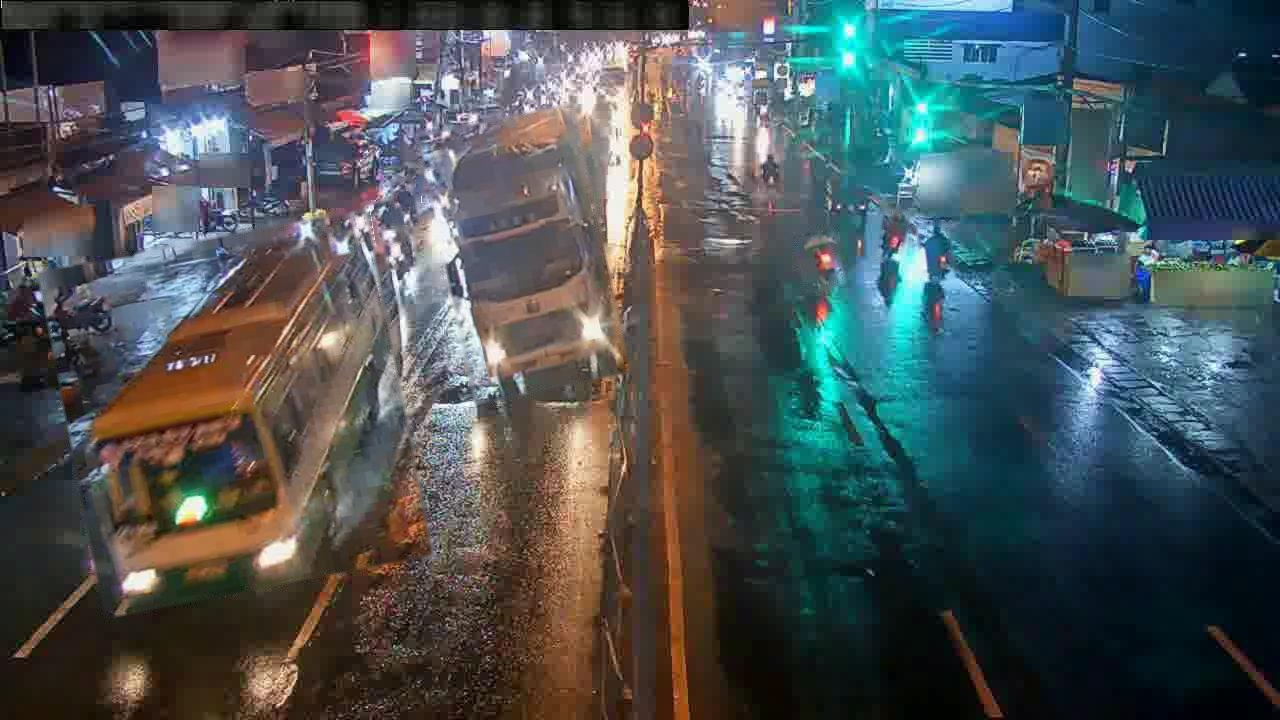Car: (1091, 233, 1120, 253)
Motorcyclist: (59, 268, 140, 311), (803, 233, 844, 293), (922, 224, 951, 282), (383, 229, 415, 269), (370, 202, 401, 243), (881, 210, 908, 257), (327, 219, 357, 255), (391, 184, 415, 225), (424, 163, 447, 203), (759, 153, 781, 192)
Pedestrian: (877, 249, 900, 304), (1133, 250, 1155, 303)
Truck: (74, 225, 403, 616), (449, 108, 616, 402)
